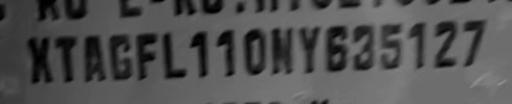letter: (428, 15, 460, 73), (458, 15, 490, 71), (52, 29, 82, 84), (268, 24, 298, 78), (24, 33, 54, 87), (376, 21, 406, 74), (213, 26, 243, 79), (132, 30, 162, 83), (322, 22, 350, 76), (105, 30, 133, 84), (350, 23, 378, 76), (240, 26, 268, 78), (161, 30, 189, 80), (82, 31, 108, 84), (189, 27, 215, 79), (298, 24, 322, 74), (408, 20, 430, 70)
